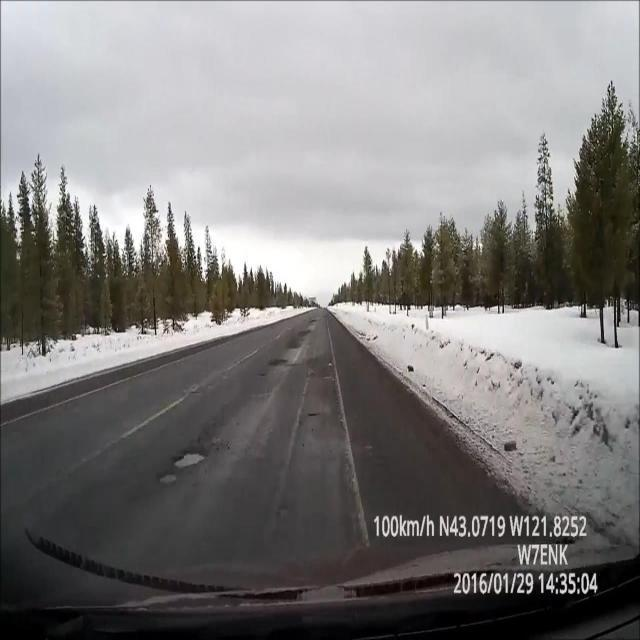Pothole: (173, 451, 206, 470), (159, 472, 177, 486)
